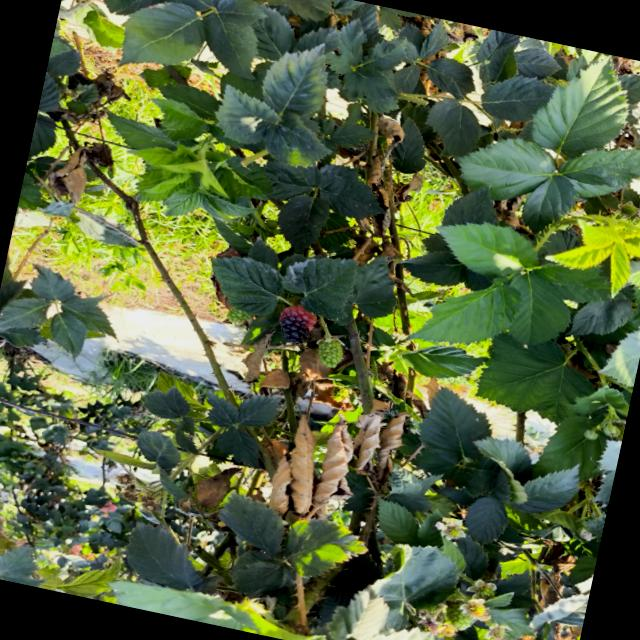marron: (279, 305, 316, 343)
verde: (317, 340, 342, 367)
